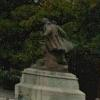Statue: (27, 14, 76, 74)
